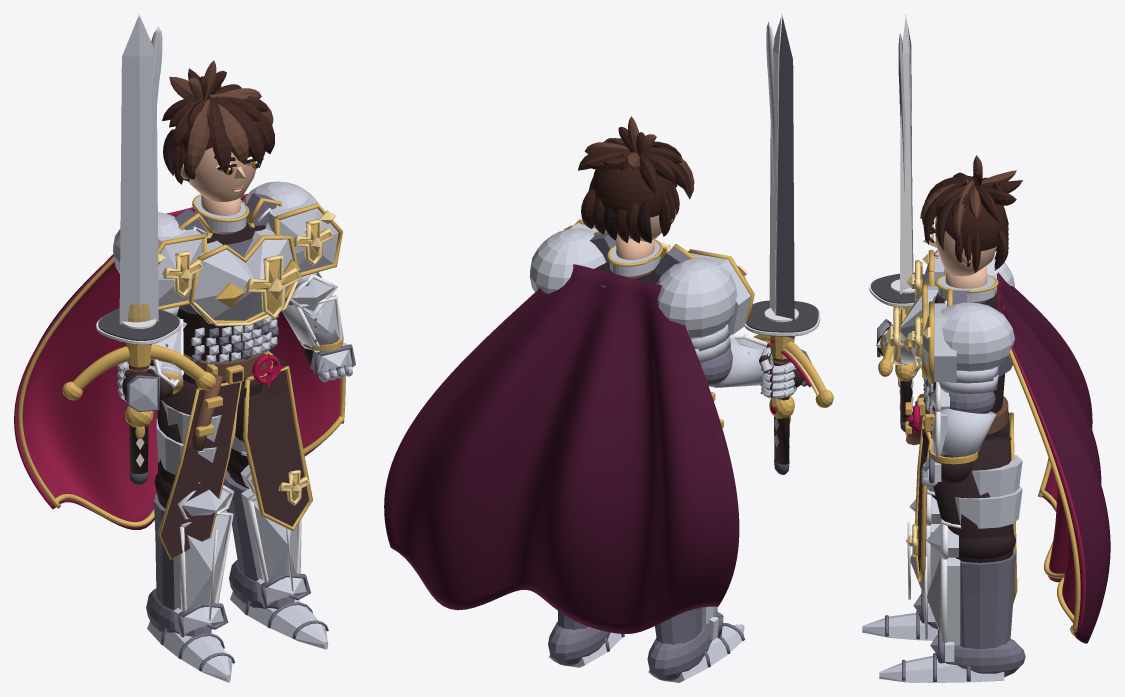
File: classic_knight_weapons.glb
The picture shows the model from 3 angles, left to right: view 1: azimuth 30°, elevation 25°; view 2: azimuth 150°, elevation 25°; view 3: azimuth 270°, elevation 25°; orthographic projection. The views are drawn at different scales.
Parts seen in each view (by area): view 1: torso, cape, legL, weapon, head, legR, armR, weapon_katana, armL; view 2: cape, torso, head, weapon, legL, armL, weapon_katana, legR; view 3: legR, cape, torso, head, armR, weapon, legL, weapon_katana, armL.
Part boxes in pixels (bbox=[...]): torso: bbox=[113, 181, 342, 559]; cape: bbox=[14, 194, 345, 529]; legL: bbox=[146, 380, 234, 682]; weapon: bbox=[62, 14, 215, 427]; head: bbox=[162, 60, 274, 201]; legR: bbox=[224, 349, 328, 649]; armR: bbox=[282, 272, 355, 382]; weapon_katana: bbox=[96, 26, 181, 484]; armL: bbox=[117, 306, 186, 411]; cape: bbox=[384, 264, 739, 633]; torso: bbox=[529, 219, 754, 427]; head: bbox=[578, 116, 694, 243]; weapon: bbox=[753, 14, 833, 418]; legL: bbox=[647, 606, 744, 682]; armL: bbox=[691, 324, 811, 398]; weapon_katana: bbox=[744, 21, 820, 474]; legR: bbox=[548, 611, 624, 667]; legR: bbox=[879, 434, 1025, 682]; cape: bbox=[997, 272, 1110, 643]; torso: bbox=[885, 249, 1017, 603]; head: bbox=[920, 155, 1022, 276]; armR: bbox=[921, 366, 998, 486]; weapon: bbox=[878, 14, 916, 381]; legL: bbox=[862, 412, 1009, 640]; weapon_katana: bbox=[869, 33, 924, 431]; armL: bbox=[876, 319, 914, 364].
Bounding box in the file's own units: 1.3 × 2.24 × 0.8477.
